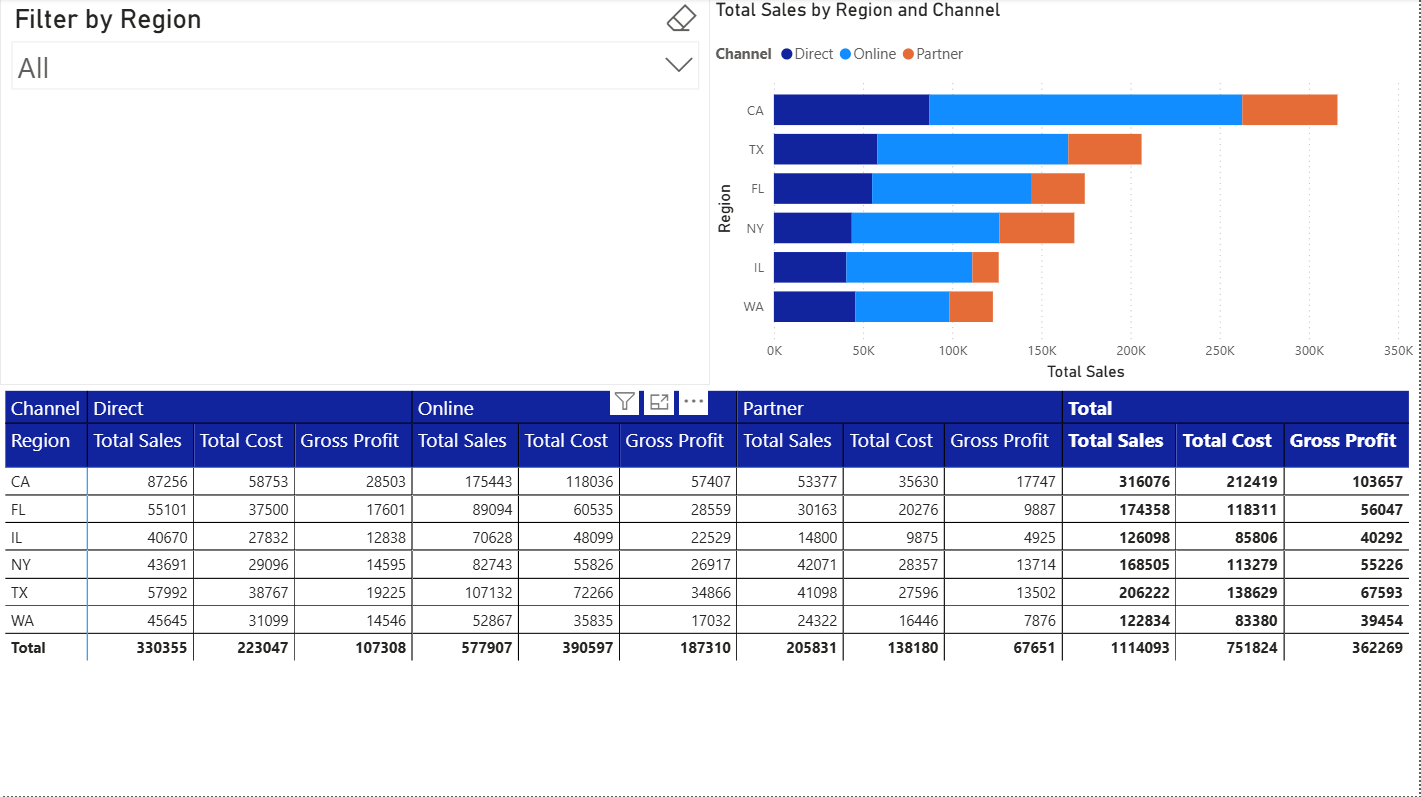

The page's visual inventory and layout, read from the dashboard file:
{"tool":"powerbi","page":{"name":"Regional Performance","canvas":[1280,720],"ordinal":2},"visuals":[{"type":"pivotTable","fields":{"Rows":["sales_data.Region"],"Columns":["sales_data.Channel"],"Values":["sales_data.Total Sales","sales_data.Total Cost","sales_data.Gross Profit"]},"box":[0,349.7,1280.3,370.5],"z":0},{"type":"barChart","fields":{"Category":["sales_data.Region"],"Series":["sales_data.Channel"],"Y":["sales_data.Total Sales"]},"box":[640.8,0,639.5,349.7],"z":1000},{"type":"slicer","fields":{"Values":["sales_data.Region"]},"box":[0,0,640.8,349.7],"z":2000}]}

Visuals, with their boxes in screenshot pixels (x1, y1, x2, y2), scaled from the page's 1280x720 canvas onto the 1421x797 screenshot:
pivotTable - sales_data.Region x sales_data.Channel: Rect(0, 387, 1420, 796)
barChart - sales_data.Region x sales_data.Channel: Rect(711, 0, 1420, 387)
slicer - sales_data.Region: Rect(0, 0, 711, 387)
